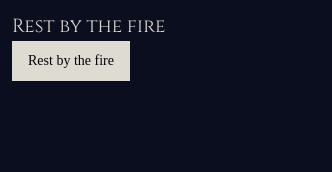
does not grant a second daily rest at the same fire
Click the button.
click(71, 60)  # box top-left (12, 40), bottom-right (130, 80)
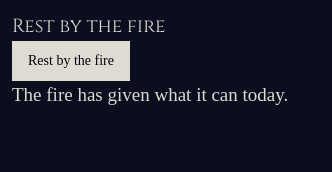
Result: the message "The fire has given what it can today." is shown at top-left (12, 84), bottom-right (288, 104)
